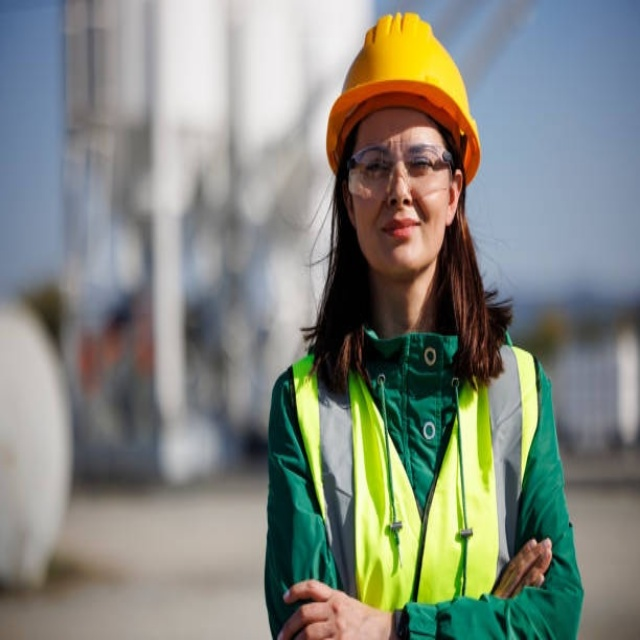Gafas: (346, 142, 457, 199)
Sin_guantes: (278, 578, 390, 640), (491, 536, 552, 599)
Sin_mascara: (373, 210, 429, 264)
